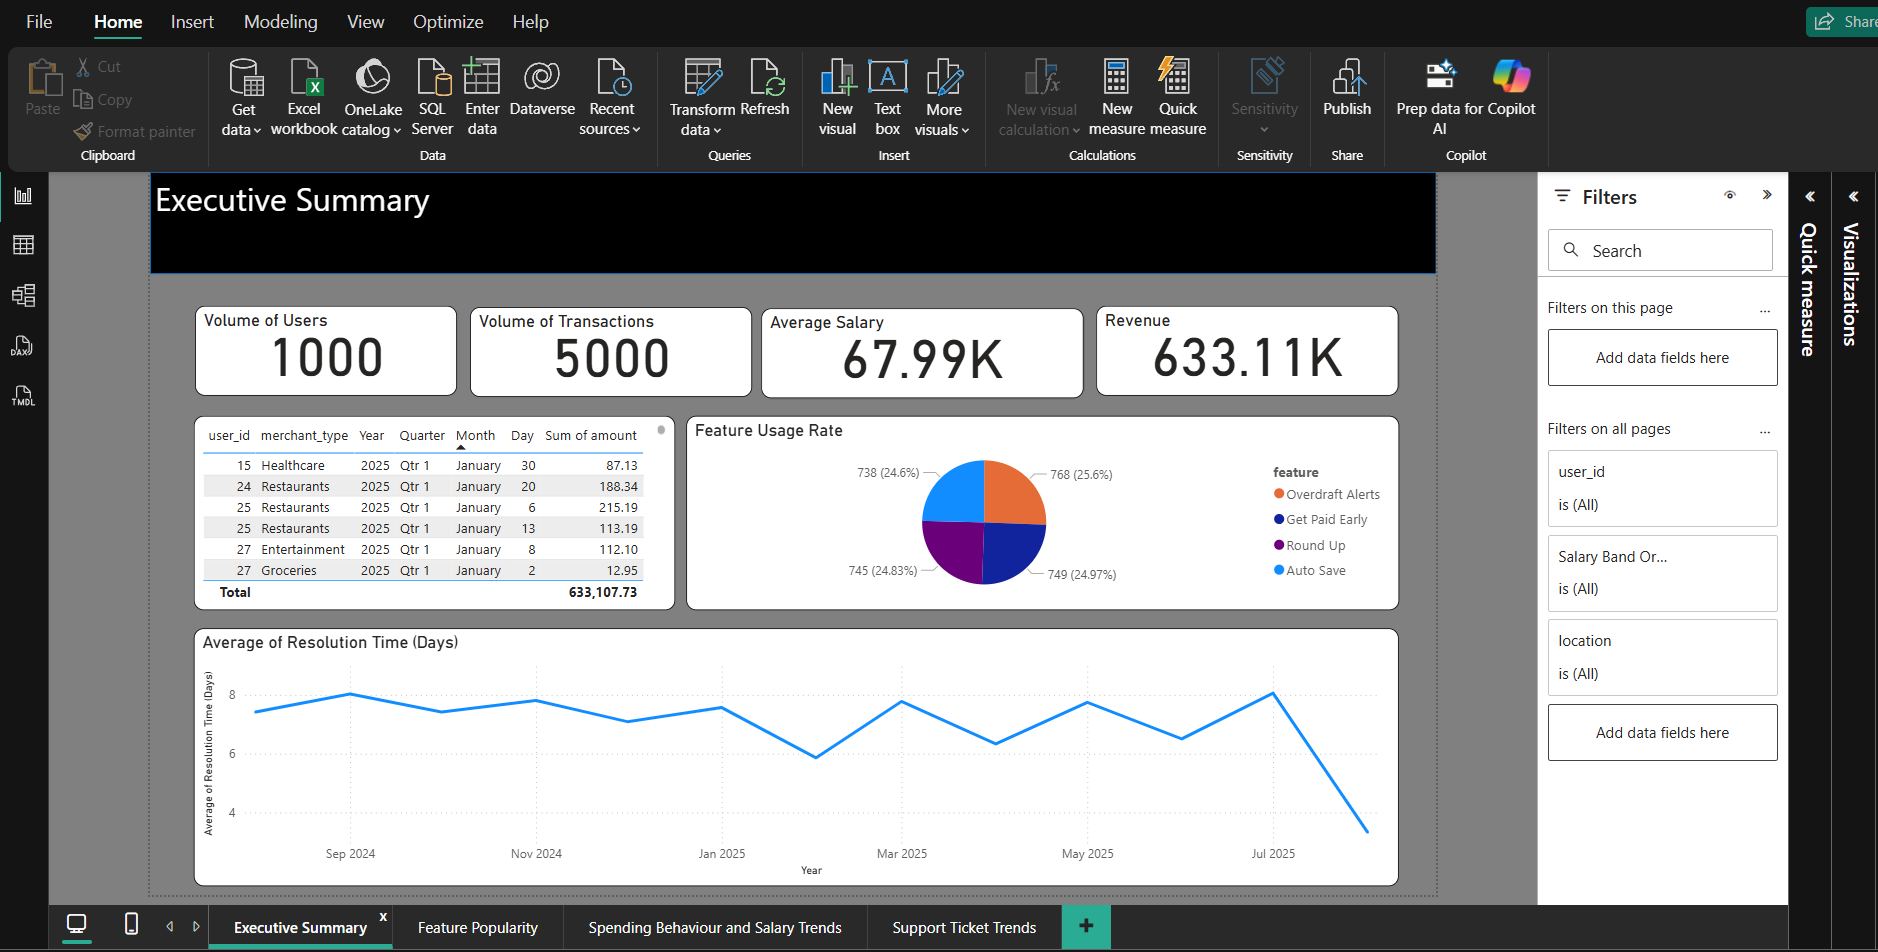

What the dashboard file says about the page in this screenshot:
{"tool":"powerbi","page":{"name":"Executive Summary","canvas":[1280,720],"ordinal":0},"visuals":[{"type":"card","title":"Volume of Users","fields":{"Values":["users.user_id"]},"box":[44.2,132.6,260.8,89.8],"z":0},{"type":"card","title":"Volume of Transactions","fields":{"Values":["transactions.user_id"]},"box":[317.9,134,280.8,89.8],"z":1000},{"type":"card","title":"Average Salary","fields":{"Values":["users.salary"]},"box":[608.6,135.4,320.7,89.8],"z":2000},{"type":"pieChart","title":"Feature Usage Rate","fields":{"Category":["feature_usage.feature"],"Y":["feature_usage.user_id"]},"box":[533.8,242.9,709.4,193.5],"z":3000},{"type":"lineChart","title":"Average of Resolution Time (Days)","fields":{"Y":["support_tickets (1).Resolution Time (Days)"],"Category":["support_tickets (1).created_at.Variation.Date Hierarchy.Year","support_tickets (1).created_at.Variation.Date Hierarchy.Month"]},"box":[43.9,454.2,1199.3,256.6],"z":4000},{"type":"card","title":"Revenue","fields":{"Values":["transactions.amount"]},"box":[942.2,132.6,300.8,89.8],"z":5000},{"type":"tableEx","fields":{"Values":["transactions.user_id","transactions.merchant_type","transactions.transaction_date.Variation.Date Hierarchy.Year","transactions.transaction_date.Variation.Date Hierarchy.Quarter","transactions.transaction_date.Variation.Date Hierarchy.Month","transactions.transaction_date.Variation.Date Hierarchy.Day","transactions.amount"]},"box":[43.9,242.9,478.9,193.5],"z":6000},{"type":"shape","box":[0,0,1280.3,101.5],"z":7000},{"type":"textbox","box":[0,0,400.5,101.2],"z":8000}]}

Visuals, with their boxes on the page's 1280x720 design canvas (x1, y1, x2, y2). These are canvas units, not pixel positions in the 1878x952 screenshot, which may show the page scaled, cropped or inside an application window:
"Volume of Users" card: <bbox>44, 133, 305, 222</bbox>
"Volume of Transactions" card: <bbox>318, 134, 599, 224</bbox>
"Average Salary" card: <bbox>609, 135, 929, 225</bbox>
"Feature Usage Rate" pieChart: <bbox>534, 243, 1243, 436</bbox>
"Average of Resolution Time (Days)" lineChart: <bbox>44, 454, 1243, 711</bbox>
"Revenue" card: <bbox>942, 133, 1243, 222</bbox>
tableEx - transactions.user_id x transactions.merchant_type: <bbox>44, 243, 523, 436</bbox>
shape: <bbox>0, 0, 1280, 102</bbox>
textbox: <bbox>0, 0, 400, 101</bbox>
